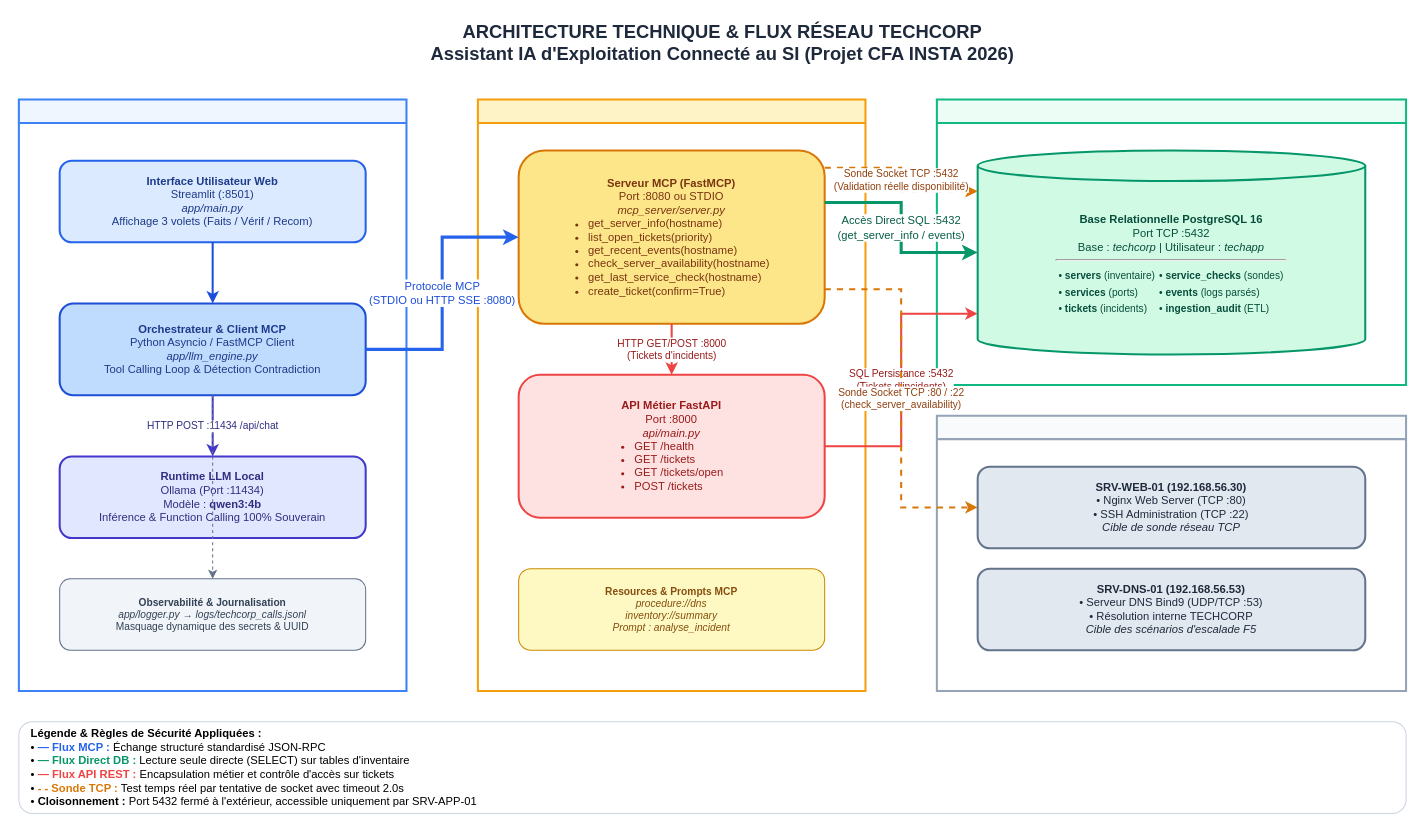
This 1424x831 diagram has some shape labels left out. The shapes that lost their labels are listed below. From the top down, each one's box as (x1, y1, x2, y2) in pixels, then its label:
(935, 98, 1407, 386): ZONE DONNÉES (SRV-DB-01 : 192.168.56.20)
(17, 98, 407, 692): ZONE CLIENT / ADMINISTRATION (POSTE-ETU : 192.168.56.x)
(476, 98, 866, 692): ZONE APPLICATIVE (SRV-APP-01 : 192.168.56.10)
(935, 414, 1407, 692): ZONE CIBLES RÉSEAU & INFRASTRUCTURE
